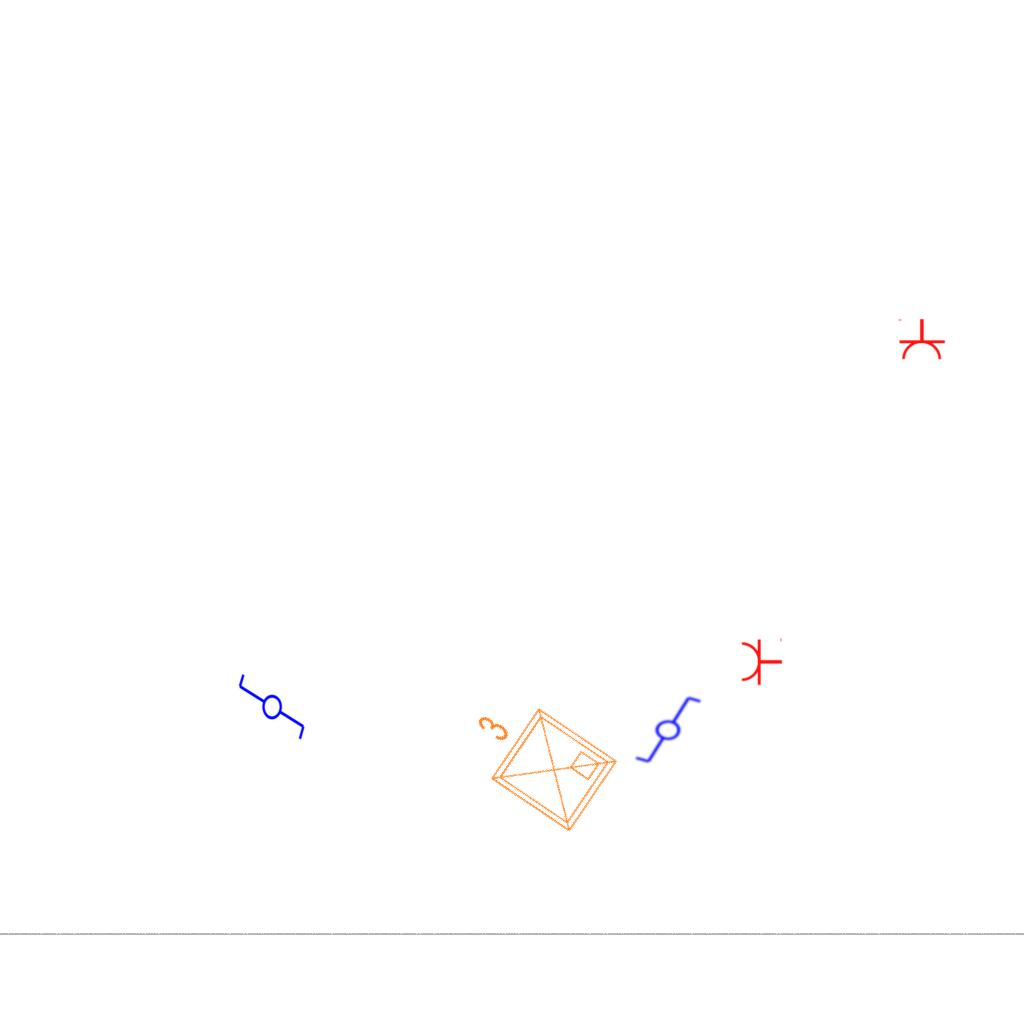Einbaudownlights_LED_Konferenzraeume: (444, 674, 628, 846)
Schukosteckdose_einfach: (740, 636, 783, 686), (896, 318, 946, 361)
Wechselschalter: (625, 693, 703, 765), (235, 672, 307, 750)
